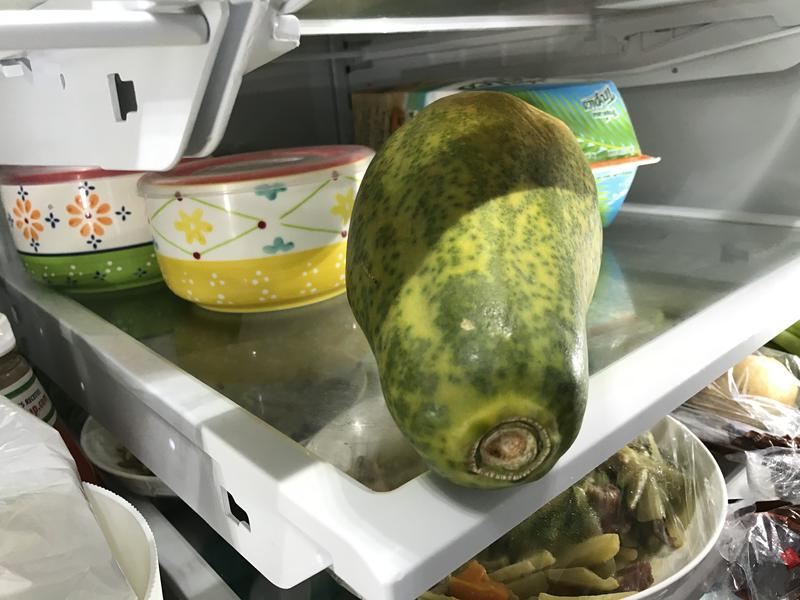papaya: (336, 82, 612, 509)
